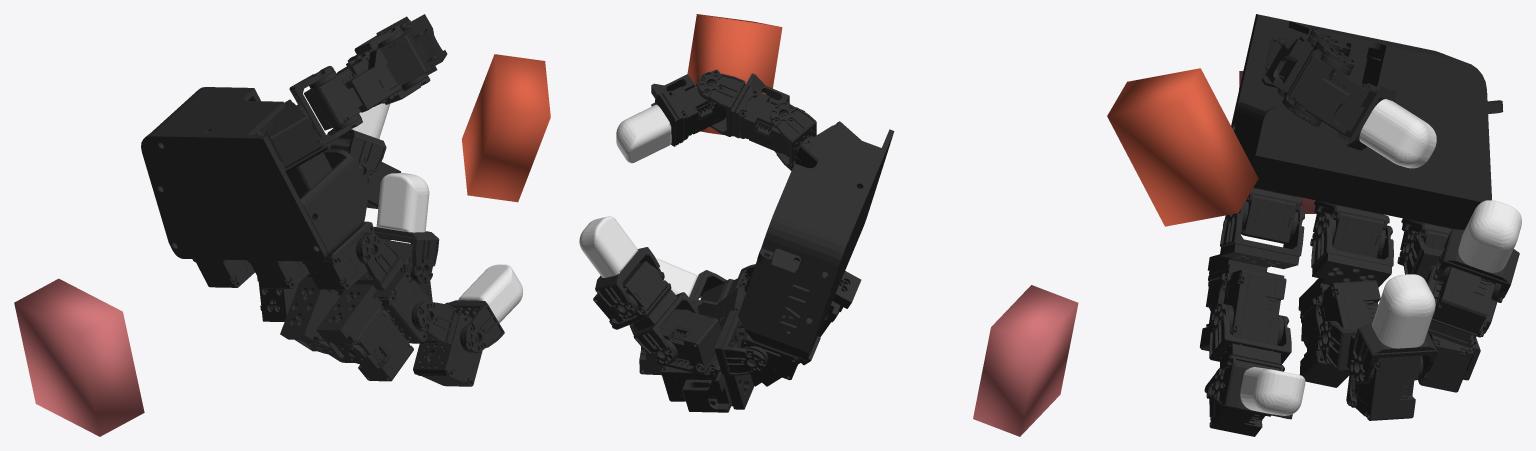
3 renders of one model, left to right at view 1: azimuth 30°, elevation 25°; view 2: azimuth 150°, elevation 25°; view 3: azimuth 270°, elevation 25°, orthographic. The views are drawn at different scales.
Parts seen in each view (by area): view 1: HAND__012__meshes__visual__palm_lower.glb__black_metal, OBJECT__00__recorded_box, OBJECT__01__recorded_box, HAND__009__meshes__visual__mcp_joint.glb__black_metal, HAND__017__meshes__visual__thumb_dip.glb__black_metal, HAND__000__meshes__visual__dip.glb__black_metal, HAND__019__meshes__visual__thumb_fingertip.glb_1__black_meta, HAND__005__meshes__visual__fingertip.glb_2__White_tip, HAND__016__meshes__visual__pip.glb_3__black_metal, HAND__010__meshes__visual__mcp_joint.glb_1__black_metal, HAND__013__meshes__visual__pip.glb__black_metal, HAND__003__meshes__visual__fingertip.glb__White_tip (+8 smaller); view 2: HAND__012__meshes__visual__palm_lower.glb__black_metal, OBJECT__00__recorded_box, OBJECT__01__recorded_box, HAND__011__meshes__visual__mcp_joint.glb_2__black_metal, HAND__017__meshes__visual__thumb_dip.glb__black_metal, HAND__002__meshes__visual__dip.glb_2__black_metal, HAND__019__meshes__visual__thumb_fingertip.glb_1__black_meta, HAND__015__meshes__visual__pip.glb_2__black_metal, HAND__007__meshes__visual__fingertip.glb_4__White_tip, HAND__018__meshes__visual__thumb_fingertip.glb__White_tip, HAND__008__meshes__visual__fingertip.glb_5__black_metal, HAND__020__meshes__visual__thumb_pip.glb__black_metal (+8 smaller); view 3: HAND__012__meshes__visual__palm_lower.glb__black_metal, OBJECT__01__recorded_box, HAND__010__meshes__visual__mcp_joint.glb_1__black_metal, HAND__001__meshes__visual__dip.glb_1__black_metal, HAND__019__meshes__visual__thumb_fingertip.glb_1__black_meta, HAND__000__meshes__visual__dip.glb__black_metal, HAND__009__meshes__visual__mcp_joint.glb__black_metal, HAND__013__meshes__visual__pip.glb__black_metal, HAND__005__meshes__visual__fingertip.glb_2__White_tip, HAND__002__meshes__visual__dip.glb_2__black_metal, HAND__018__meshes__visual__thumb_fingertip.glb__White_tip, HAND__007__meshes__visual__fingertip.glb_4__White_tip (+10 smaller).
Boxes of the visible parts, x1,y1,x2,y2 form: HAND__012__meshes__visual__palm_lower.glb__black_metal: (141,87,378,290); OBJECT__00__recorded_box: (14,278,144,436); OBJECT__01__recorded_box: (461,54,550,202); HAND__009__meshes__visual__mcp_joint.glb__black_metal: (316,234,413,381); HAND__017__meshes__visual__thumb_dip.glb__black_metal: (304,24,430,131); HAND__000__meshes__visual__dip.glb__black_metal: (413,301,482,386); HAND__019__meshes__visual__thumb_fingertip.glb_1__black_meta: (376,14,447,90); HAND__005__meshes__visual__fingertip.glb_2__White_tip: (376,173,429,232); HAND__016__meshes__visual__pip.glb_3__black_metal: (254,99,328,172); HAND__010__meshes__visual__mcp_joint.glb_1__black_metal: (280,273,354,362); HAND__013__meshes__visual__pip.glb__black_metal: (372,272,435,343); HAND__003__meshes__visual__fingertip.glb__White_tip: (458,264,522,322); HAND__012__meshes__visual__palm_lower.glb__black_metal: (738,129,894,380); OBJECT__00__recorded_box: (973,285,1078,436); OBJECT__01__recorded_box: (687,14,782,136); HAND__011__meshes__visual__mcp_joint.glb_2__black_metal: (660,310,766,412); HAND__017__meshes__visual__thumb_dip.glb__black_metal: (697,71,804,156); HAND__002__meshes__visual__dip.glb_2__black_metal: (593,261,698,364); HAND__019__meshes__visual__thumb_fingertip.glb_1__black_meta: (651,69,726,146); HAND__015__meshes__visual__pip.glb_2__black_metal: (655,309,721,374); HAND__007__meshes__visual__fingertip.glb_4__White_tip: (579,216,638,277); HAND__018__meshes__visual__thumb_fingertip.glb__White_tip: (616,104,671,163); HAND__008__meshes__visual__fingertip.glb_5__black_metal: (595,247,664,318); HAND__020__meshes__visual__thumb_pip.glb__black_metal: (770,102,816,170); HAND__012__meshes__visual__palm_lower.glb__black_metal: (1223,14,1503,265); OBJECT__01__recorded_box: (1107,68,1258,226); HAND__010__meshes__visual__mcp_joint.glb_1__black_metal: (1298,212,1393,387); HAND__001__meshes__visual__dip.glb_1__black_metal: (1318,321,1423,420); HAND__019__meshes__visual__thumb_fingertip.glb_1__black_meta: (1288,54,1395,150); HAND__000__meshes__visual__dip.glb__black_metal: (1204,303,1291,436); HAND__009__meshes__visual__mcp_joint.glb__black_metal: (1200,205,1304,351); HAND__013__meshes__visual__pip.glb__black_metal: (1215,270,1286,345); HAND__005__meshes__visual__fingertip.glb_2__White_tip: (1372,274,1435,348); HAND__002__meshes__visual__dip.glb_2__black_metal: (1425,265,1501,337); HAND__018__meshes__visual__thumb_fingertip.glb__White_tip: (1359,99,1436,168); HAND__007__meshes__visual__fingertip.glb_4__White_tip: (1458,200,1521,272).
Size of the model in its own units: 0.2874 by 0.2016 by 0.1981.
